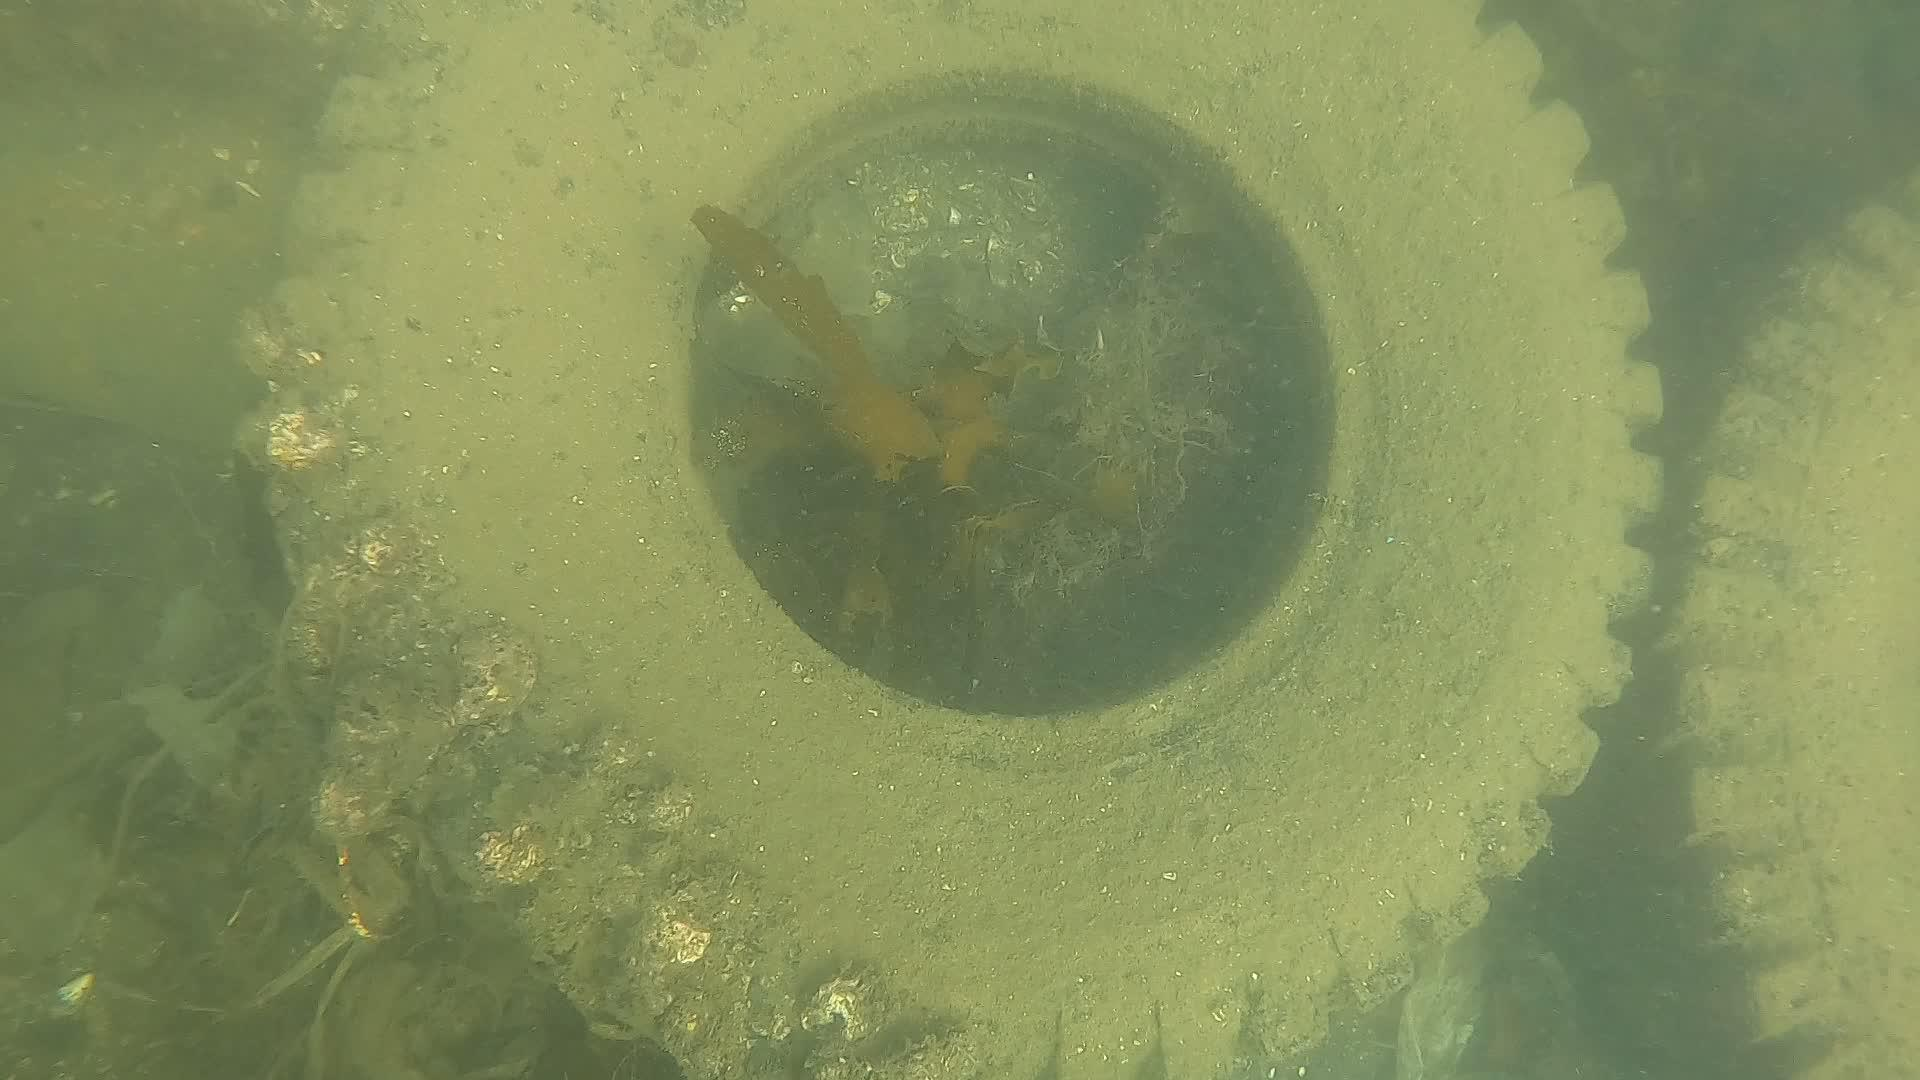tire: (276, 0, 1663, 1080)
